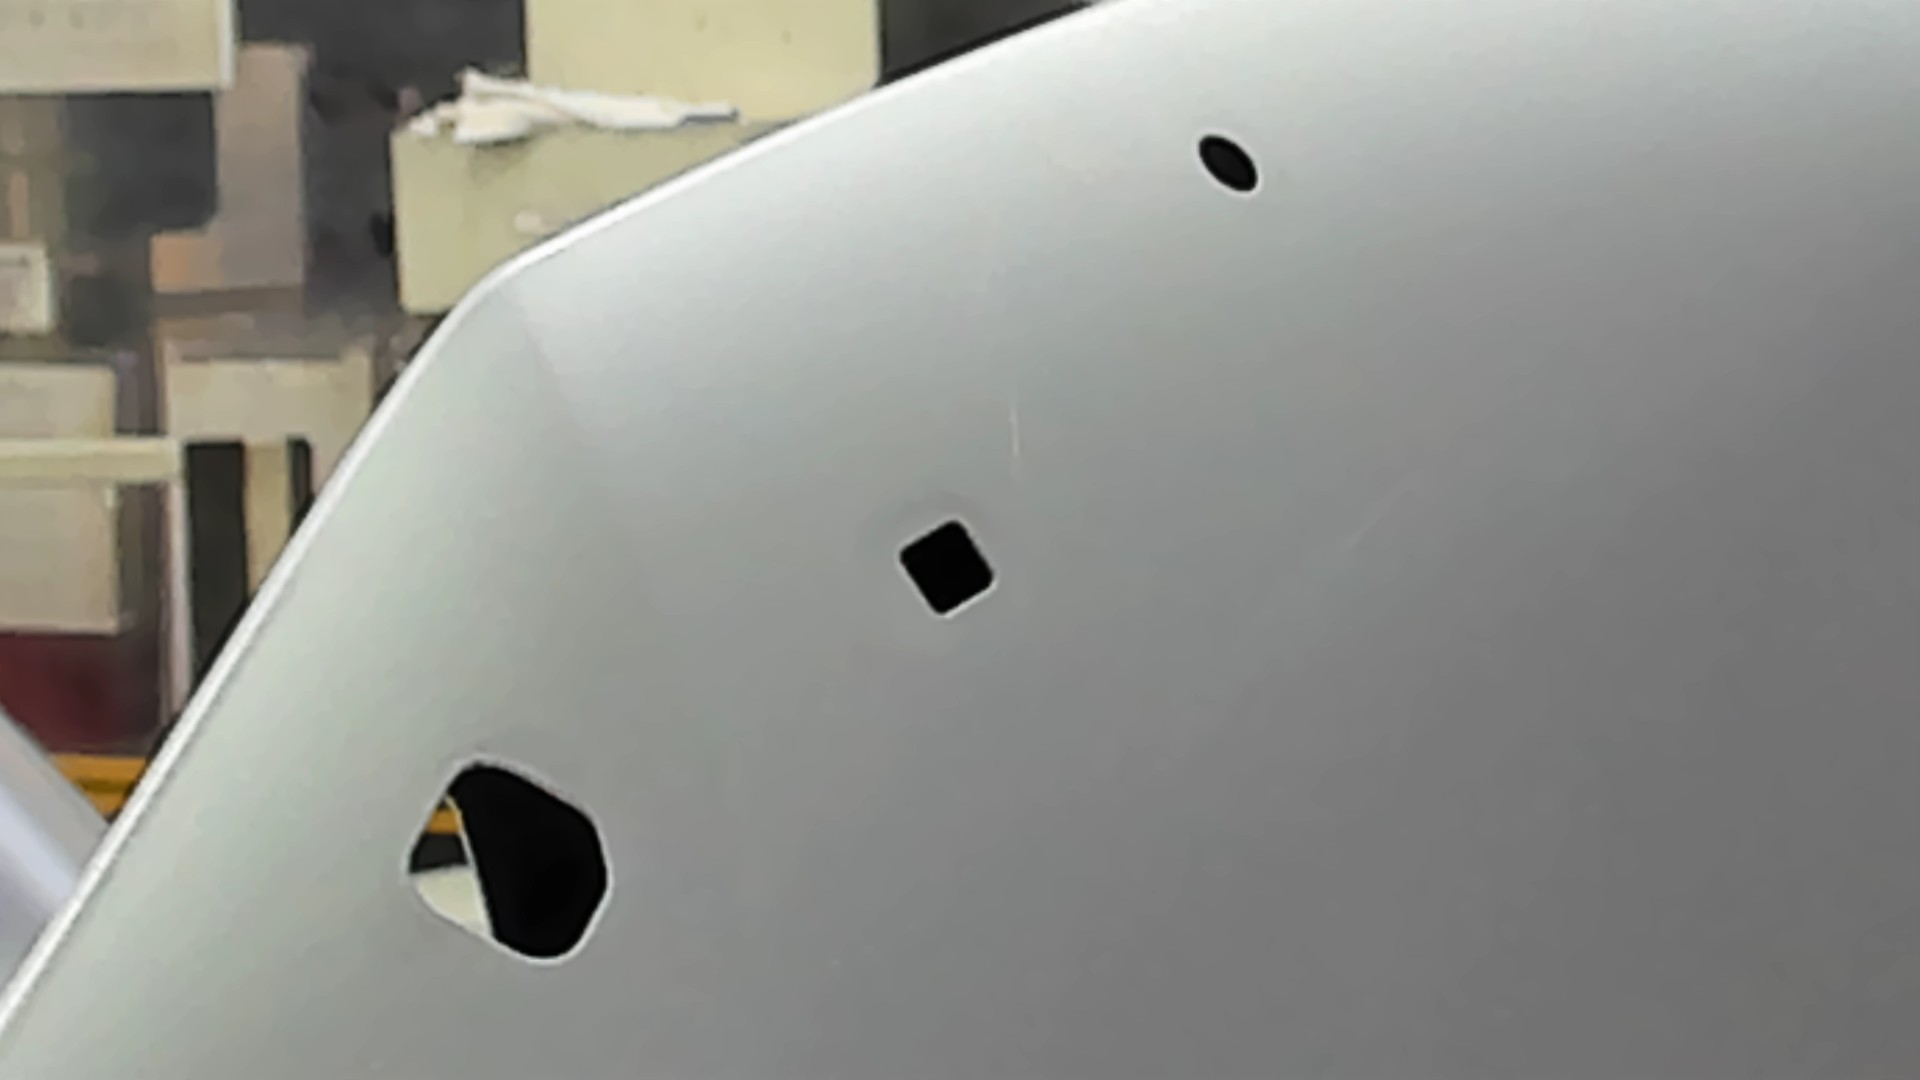chico: (1195, 128, 1266, 204)
grande: (401, 753, 615, 977)
mediano: (891, 512, 1000, 624)
